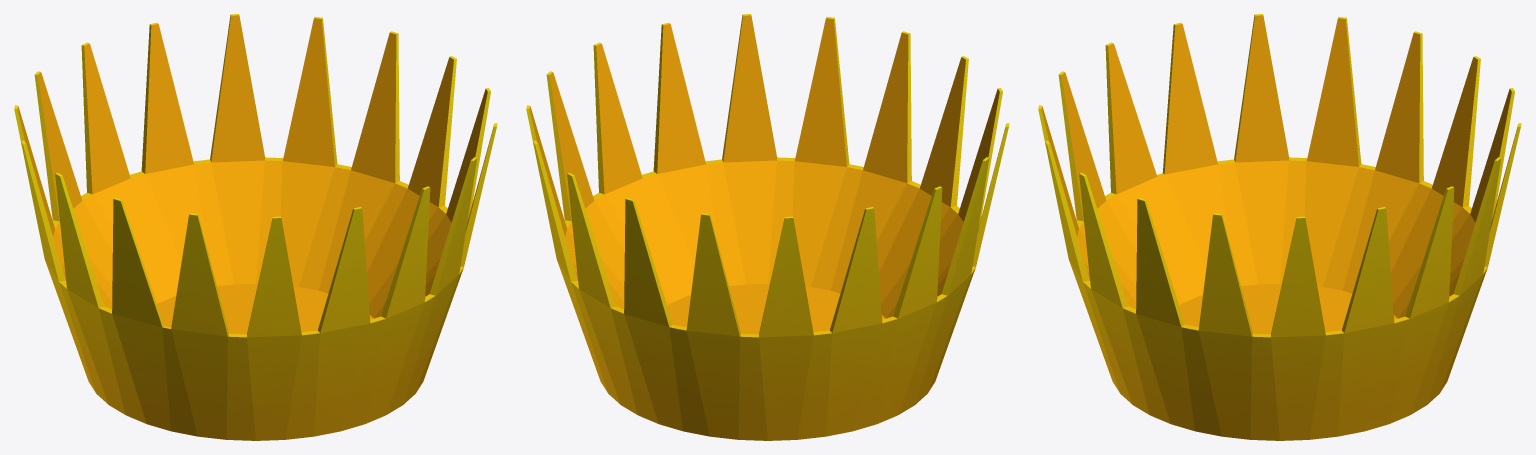
Rendered from Crown.fbx.
The picture shows the model from 3 angles, left to right: view 1: azimuth 30°, elevation 25°; view 2: azimuth 150°, elevation 25°; view 3: azimuth 270°, elevation 25°; orthographic projection.
Visible parts, largest first — view 1: Crown; view 2: Crown; view 3: Crown.
Boxes of the visible parts, box(x1,y1,x2,y2) form: Crown: box(14, 14, 497, 440); Crown: box(526, 14, 1009, 440); Crown: box(1038, 14, 1521, 440).
Size of the model in its own units: 0.8502 by 0.4909 by 0.8502.
